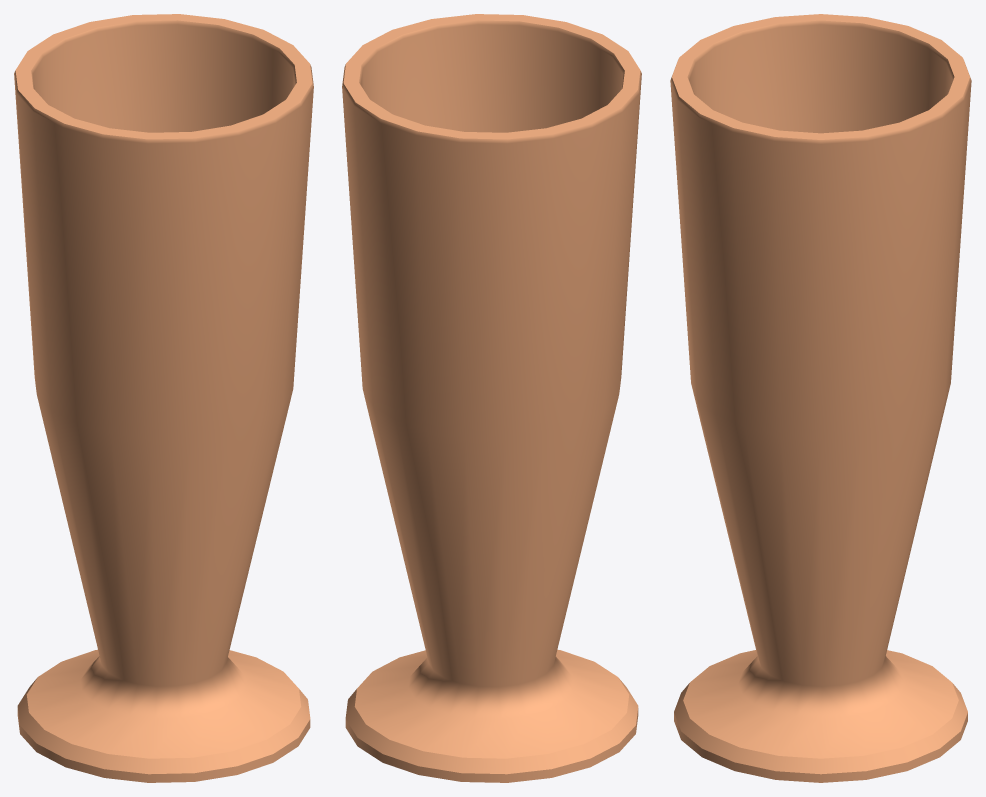
File: Glass02.fbx
The picture shows the model from 3 angles, left to right: view 1: azimuth 30°, elevation 25°; view 2: azimuth 150°, elevation 25°; view 3: azimuth 270°, elevation 25°; orthographic projection.
Visible parts, largest first — view 1: Glass02_Modelling_v001:Glass_Glass; view 2: Glass02_Modelling_v001:Glass_Glass; view 3: Glass02_Modelling_v001:Glass_Glass.
Boxes of the visible parts, x1,y1,x2,y2 form: Glass02_Modelling_v001:Glass_Glass: (14, 14, 313, 782); Glass02_Modelling_v001:Glass_Glass: (342, 14, 641, 782); Glass02_Modelling_v001:Glass_Glass: (670, 14, 971, 782).
Bounding box in the file's own units: 10.69 × 25.22 × 10.69.
1 material, 1 textured.
